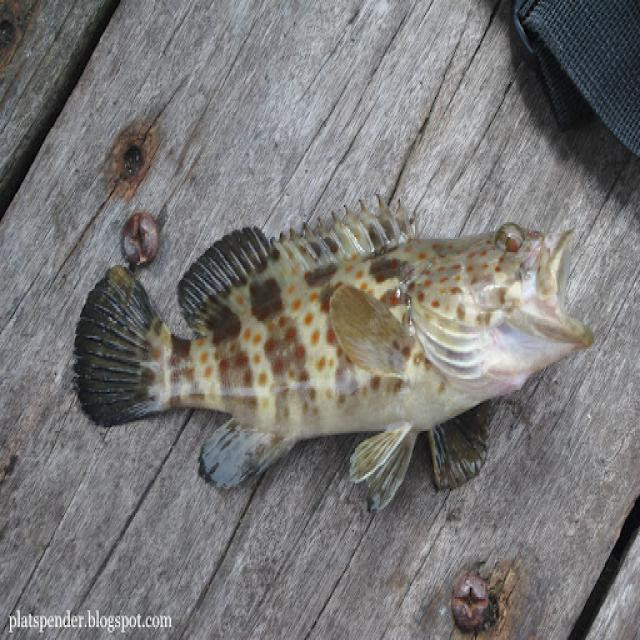grouper: (63, 196, 607, 510)
